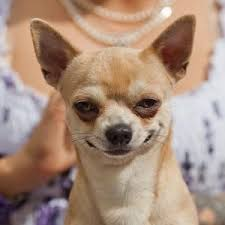chihuahua: (28, 17, 203, 225)
